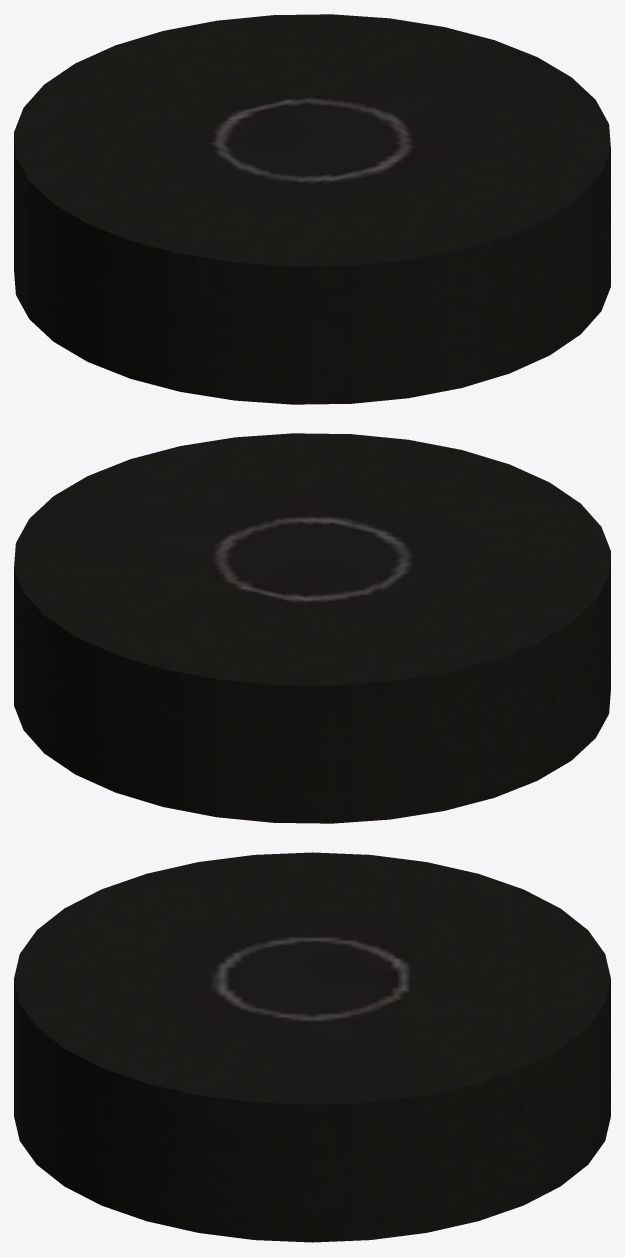
Rendered from wheel_1__tire.glb.
3 views of the same model, one above another, from view 1: azimuth 30°, elevation 25°; view 2: azimuth 150°, elevation 25°; view 3: azimuth 270°, elevation 25° (orthographic).
Parts seen in each view (by area): view 1: world; view 2: world; view 3: world.
Part boxes in pixels (left/top/right/bottom): world: left=14, top=14, right=610, bottom=404; world: left=14, top=433, right=610, bottom=823; world: left=14, top=852, right=610, bottom=1242.
Size of the model in its own units: 0.11 by 0.028 by 0.11.
1 material, 1 textured.
